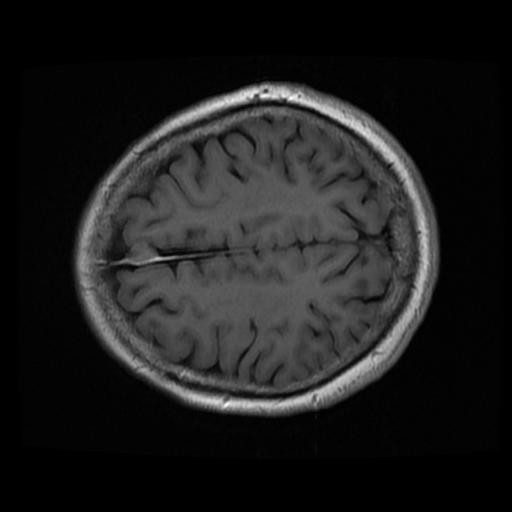meningioma: (125, 245, 155, 262)
